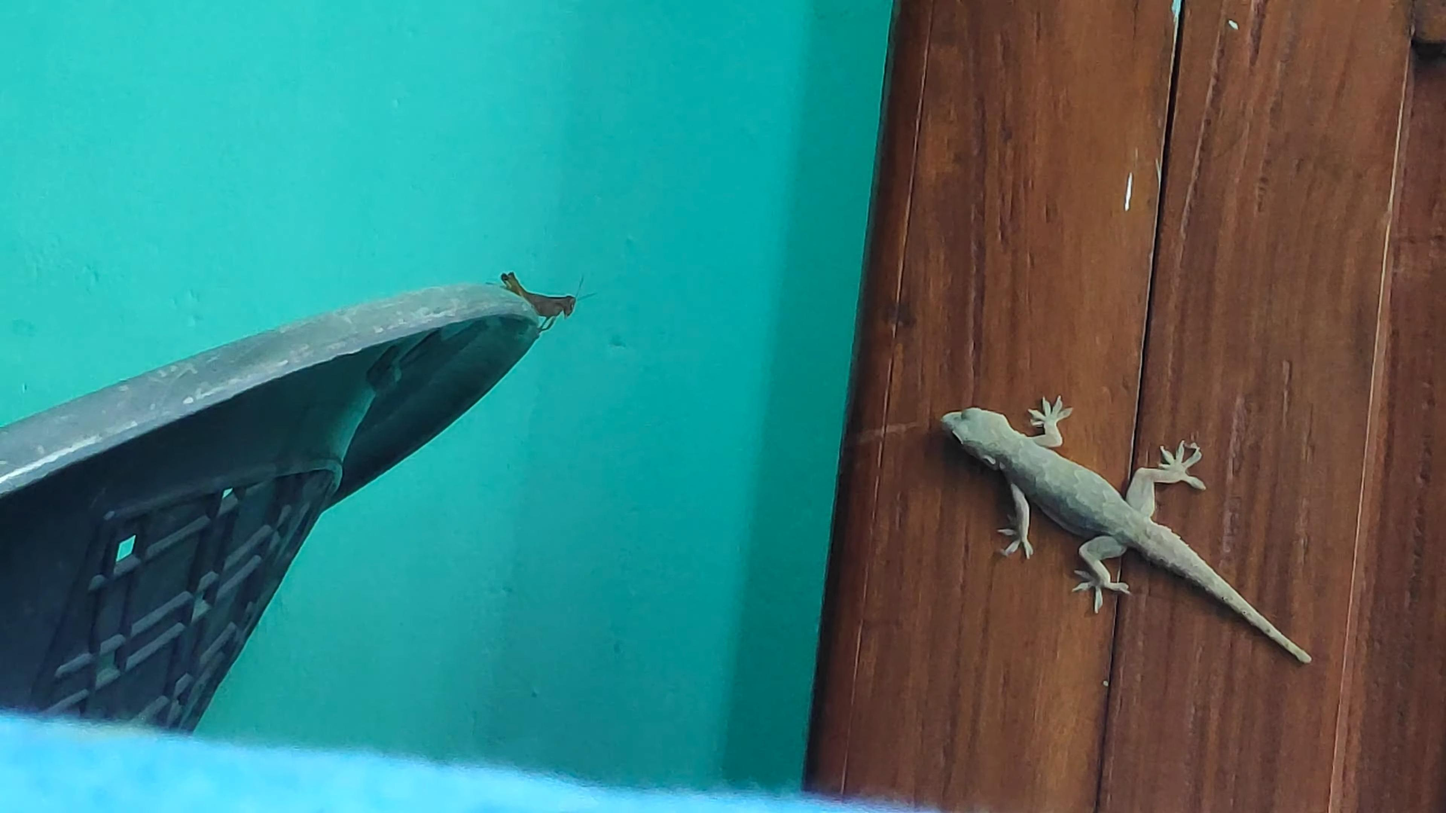lizard: (934, 392, 1310, 667)
